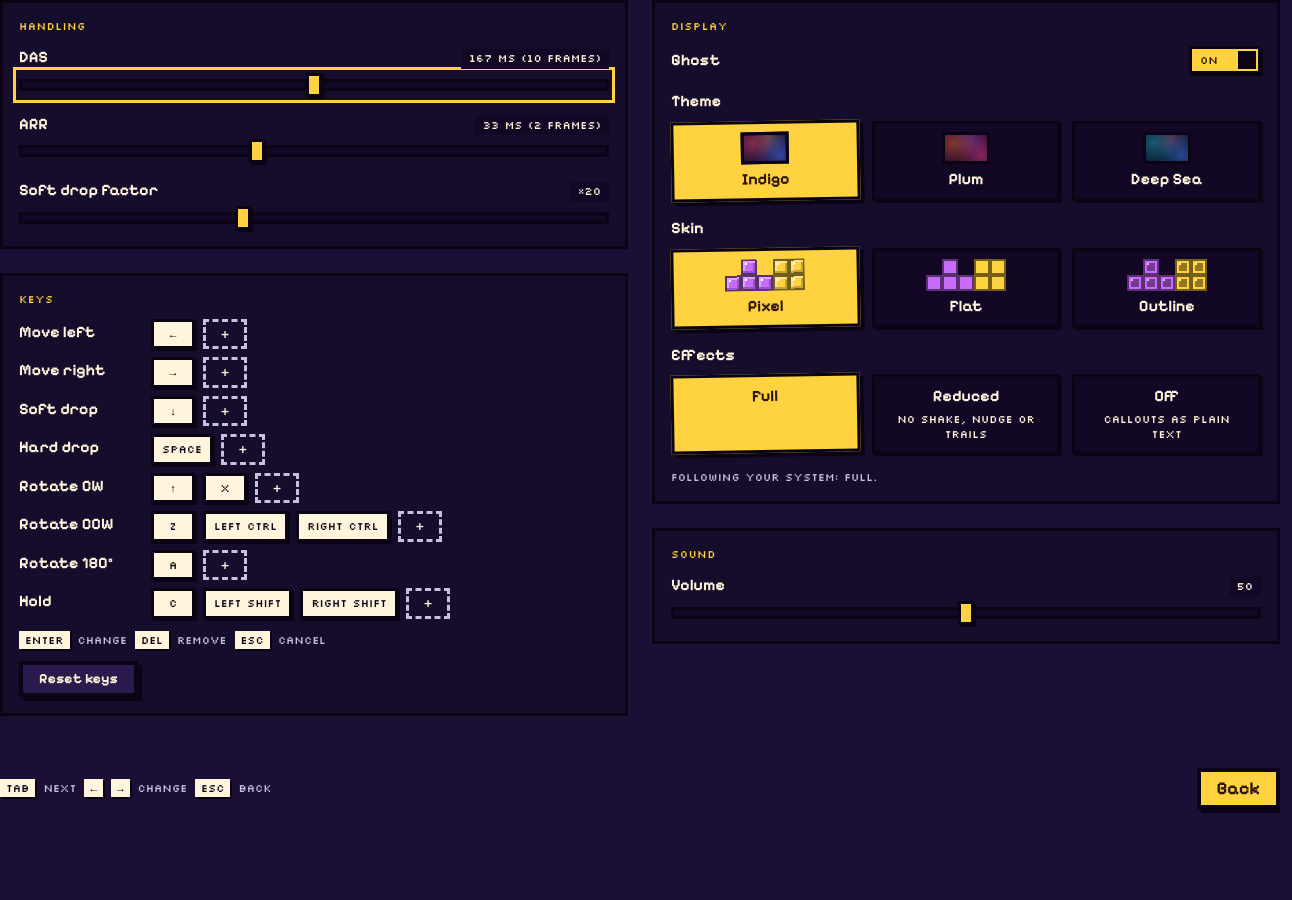
Test: bindings › a key pressed for a slot is bound there and saved
The width and height of the screenshot is (1292, 900).
Click the button named "Hold: C" at (173, 604), box [151,588,195,619]
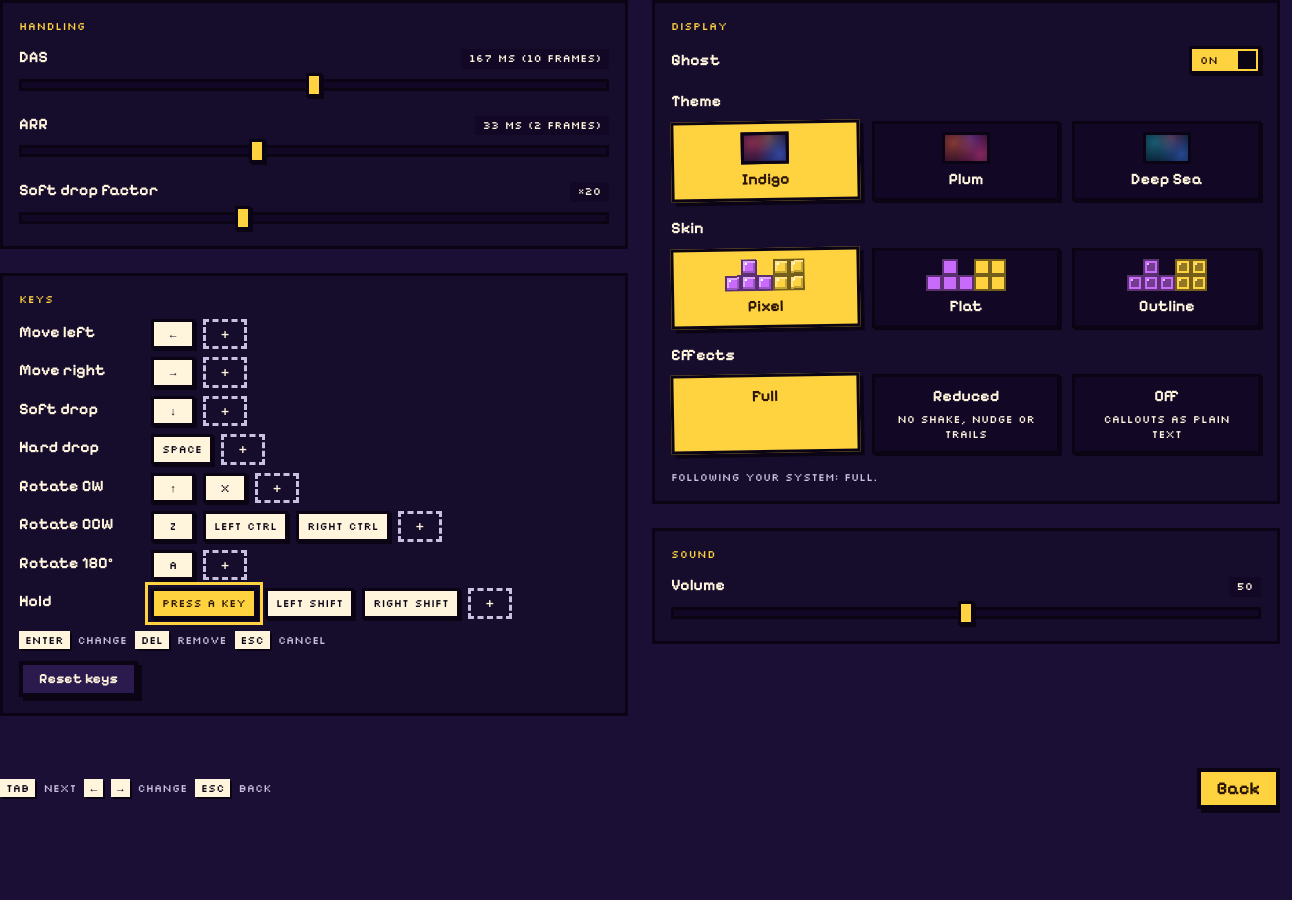
Type keys "v"
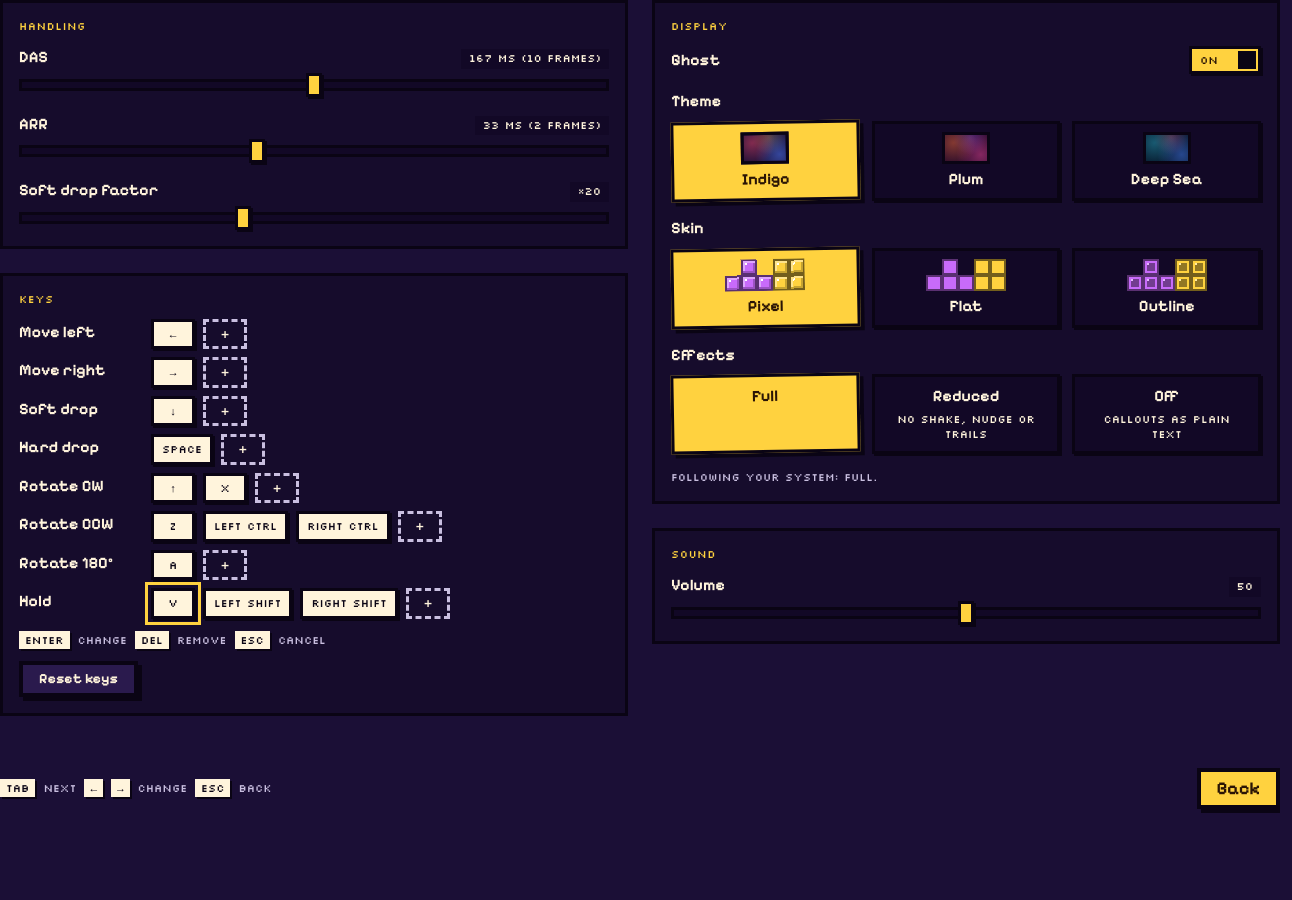
Result: the button named "Hold: V" is shown at [151,588,195,619]
